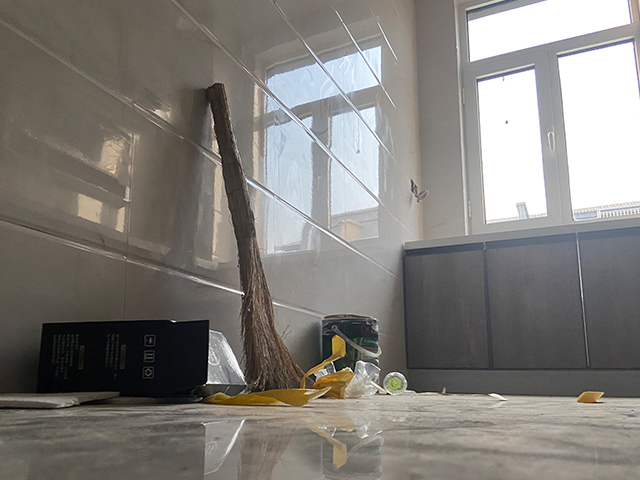cabinet: (401, 215, 640, 399)
trashcan: (320, 313, 384, 395)
